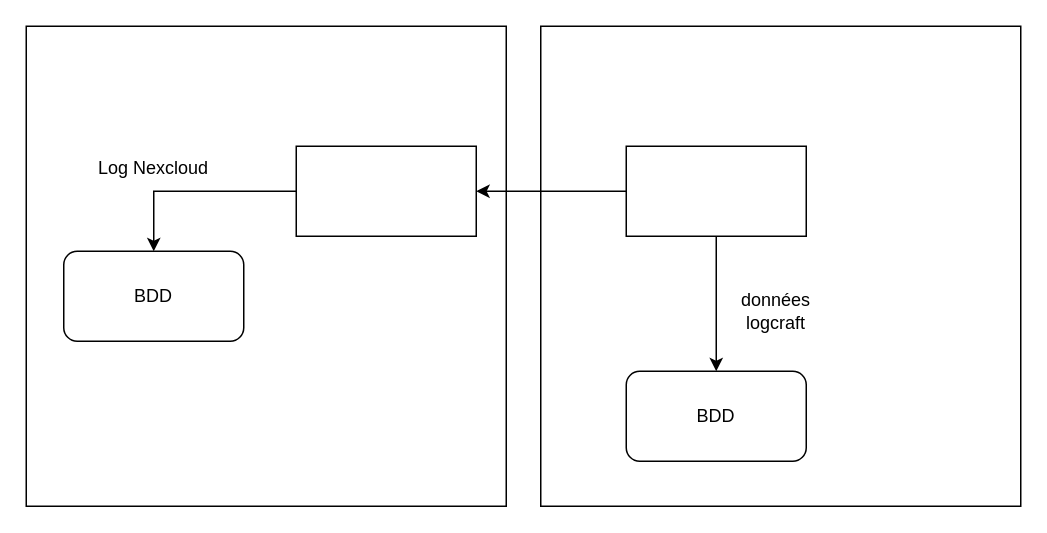
This 1047x533 diagram has some shape labels left out. Here are the shapes that lost their labels. From the top down, the box of each, then its label:
(295, 145, 476, 236): rsyslog
(625, 145, 806, 236): Logcraft
